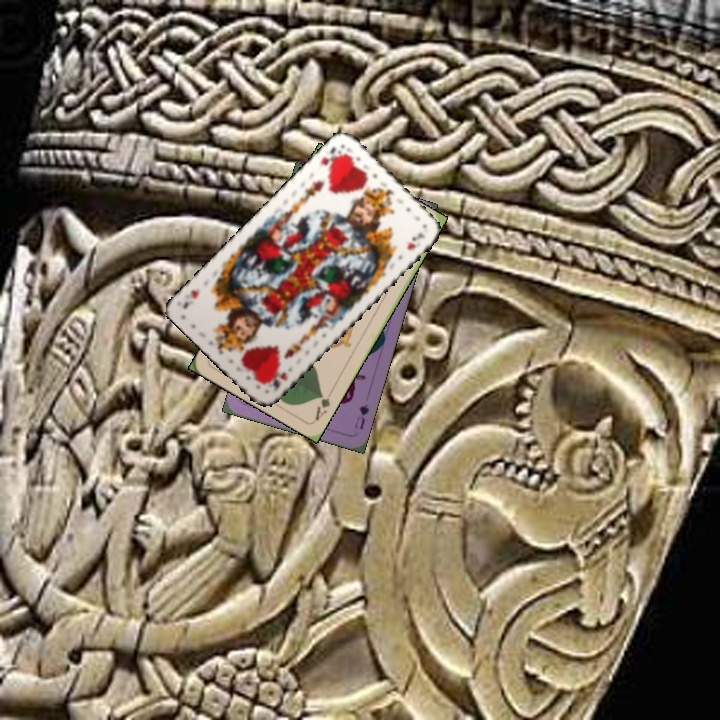GA: (310, 386, 336, 423)
GU: (351, 400, 372, 432)
HK: (316, 143, 347, 173), (264, 367, 290, 393)
